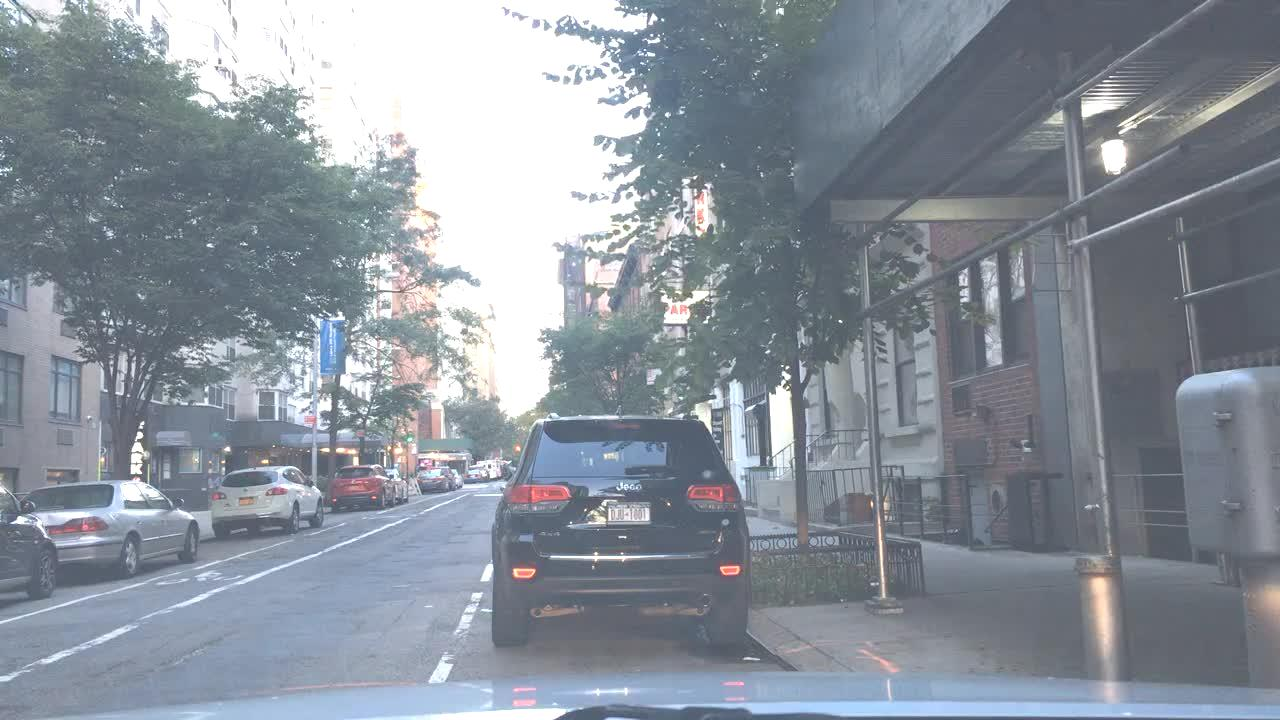jeep: (609, 479, 652, 496)
